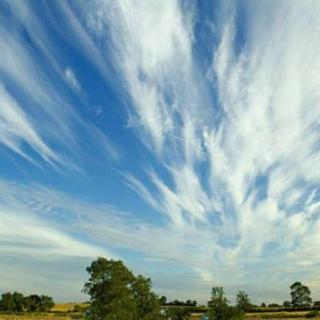Cirrus: (0, 0, 320, 302)
